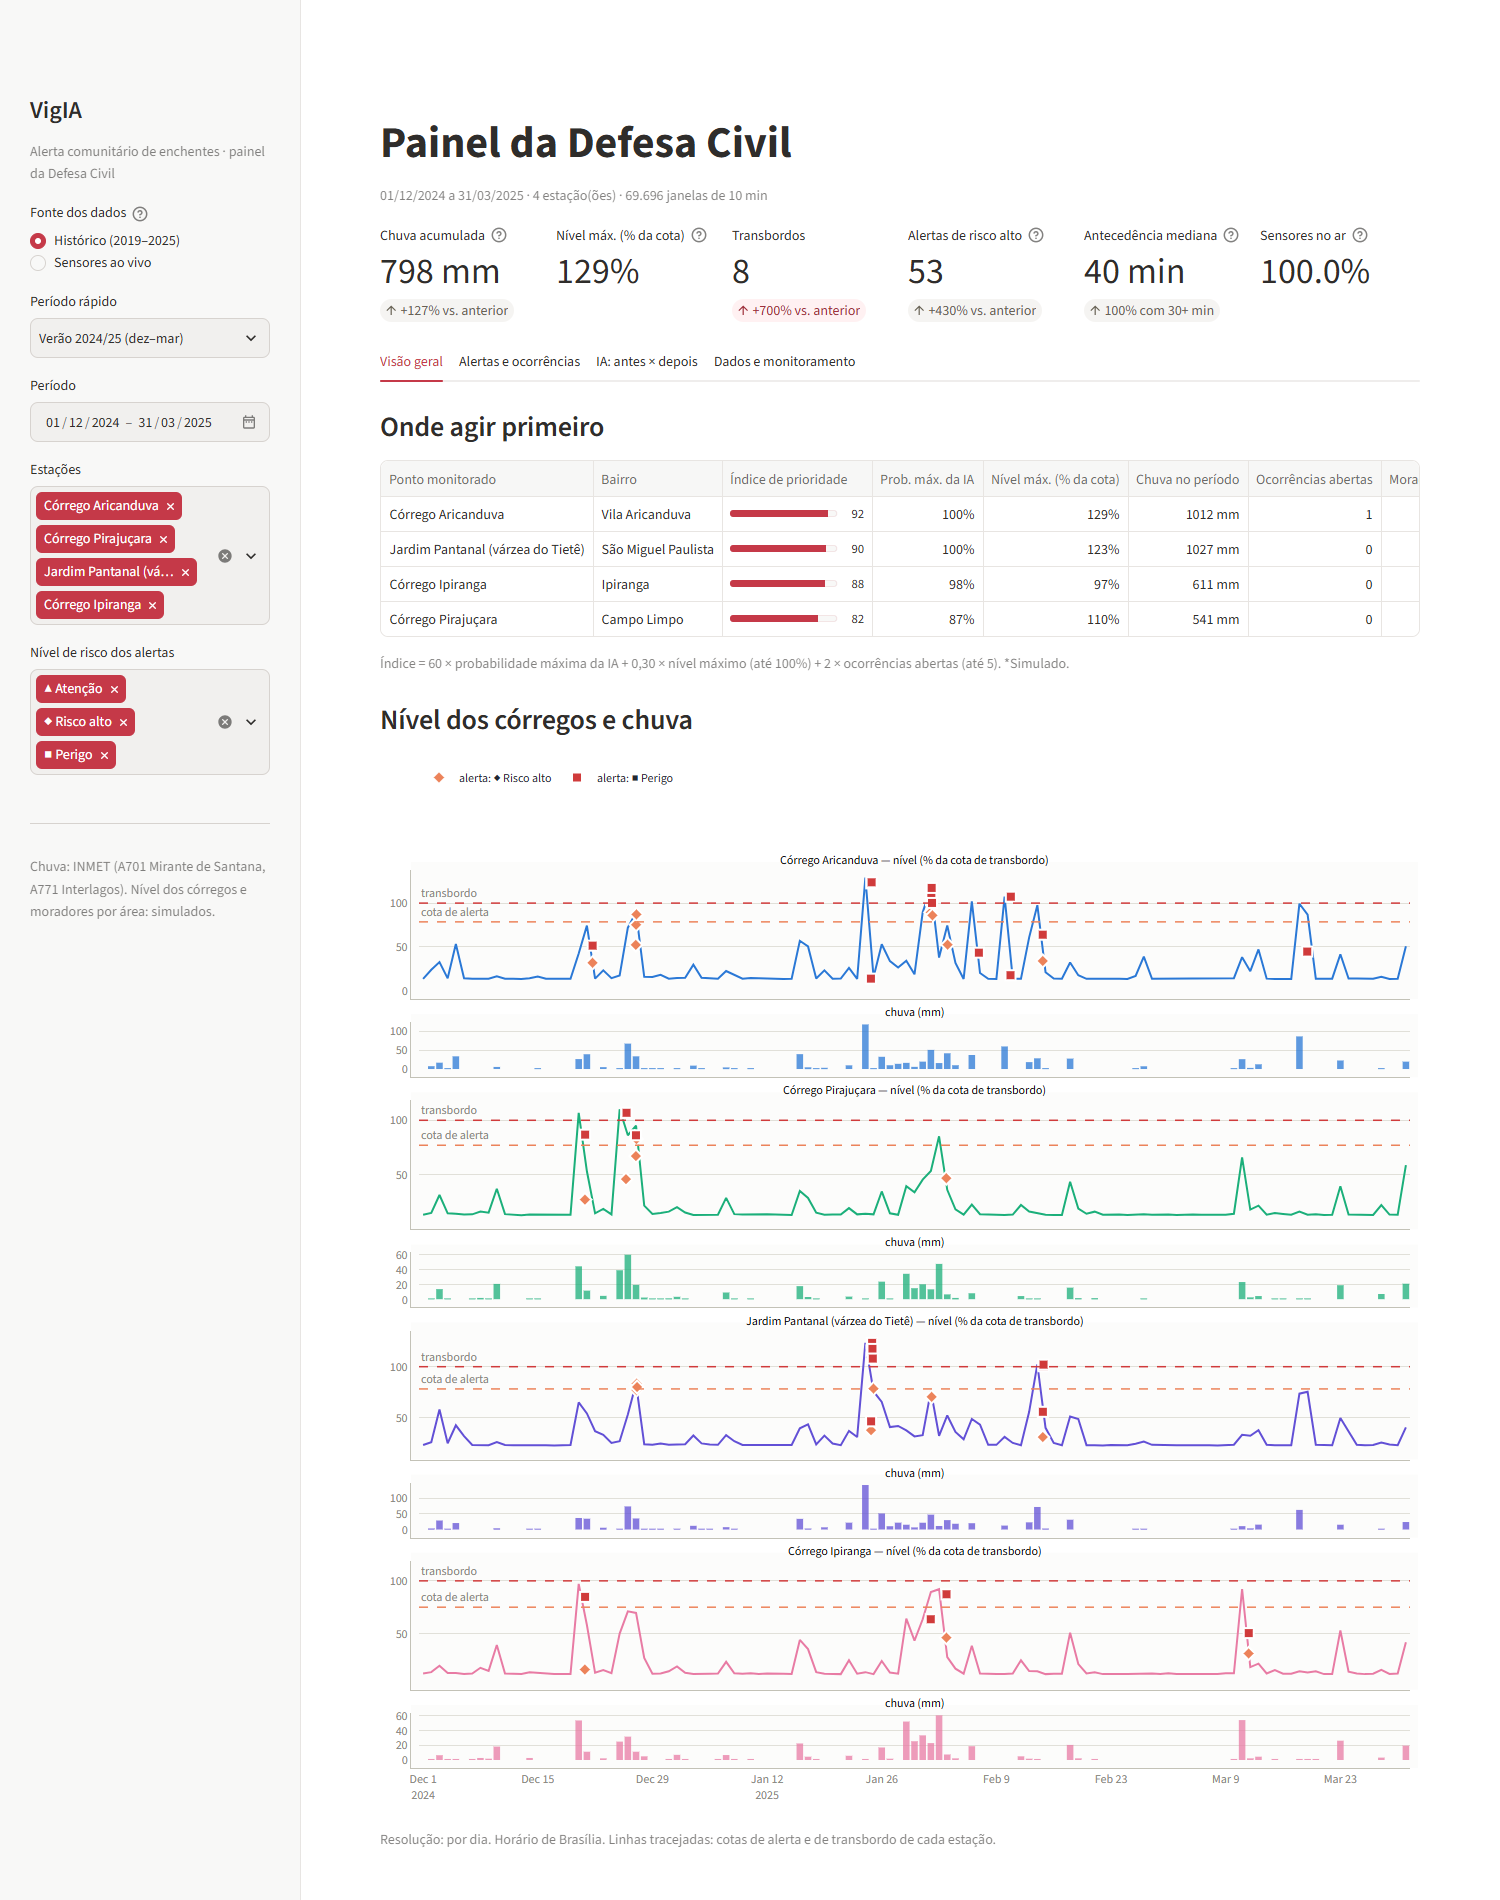

Layout of this report page (visuals, bound fields, positions):
{"tool":"powerbi","page":{"name":"Página 1","canvas":[1920,1080],"ordinal":0},"visuals":[{"type":"htmlContent443BE3AD55E043BF878BED274D3A6855","fields":{"content":["Medidas.VigIA Painel HTML"]},"box":[0,0,1920,1079.6],"z":0},{"type":"slicer","fields":{"Values":["dim_data.data"]},"box":[42.3,134.2,300.5,52.5],"z":1},{"type":"slicer","fields":{"Values":["dim_estacao.nome"]},"box":[367.7,137.1,356,52.5],"z":2}]}

Visuals, with their boxes on the page's 1920x1080 design canvas (x1, y1, x2, y2). These are canvas units, not pixel positions in the 1500x1900 screenshot, which may show the page scaled, cropped or inside an application window:
htmlContent443BE3AD55E043BF878BED274D3A6855 - Medidas.VigIA Painel HTML: <region>0, 0, 1920, 1080</region>
slicer - dim_data.data: <region>42, 134, 343, 187</region>
slicer - dim_estacao.nome: <region>368, 137, 724, 190</region>
